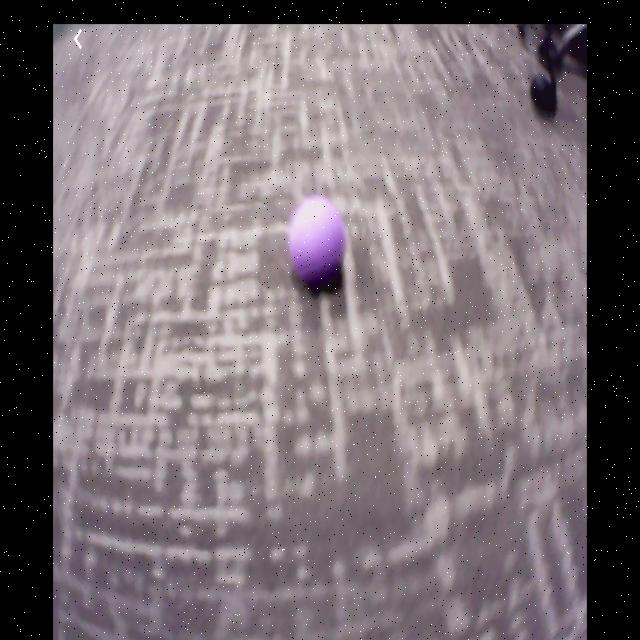ball: (291, 198, 347, 284)
